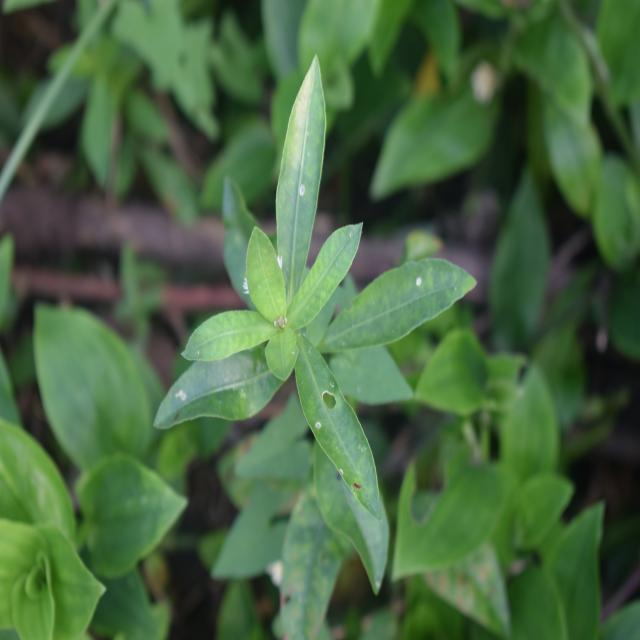Alligatorweed: (151, 68, 436, 542)
